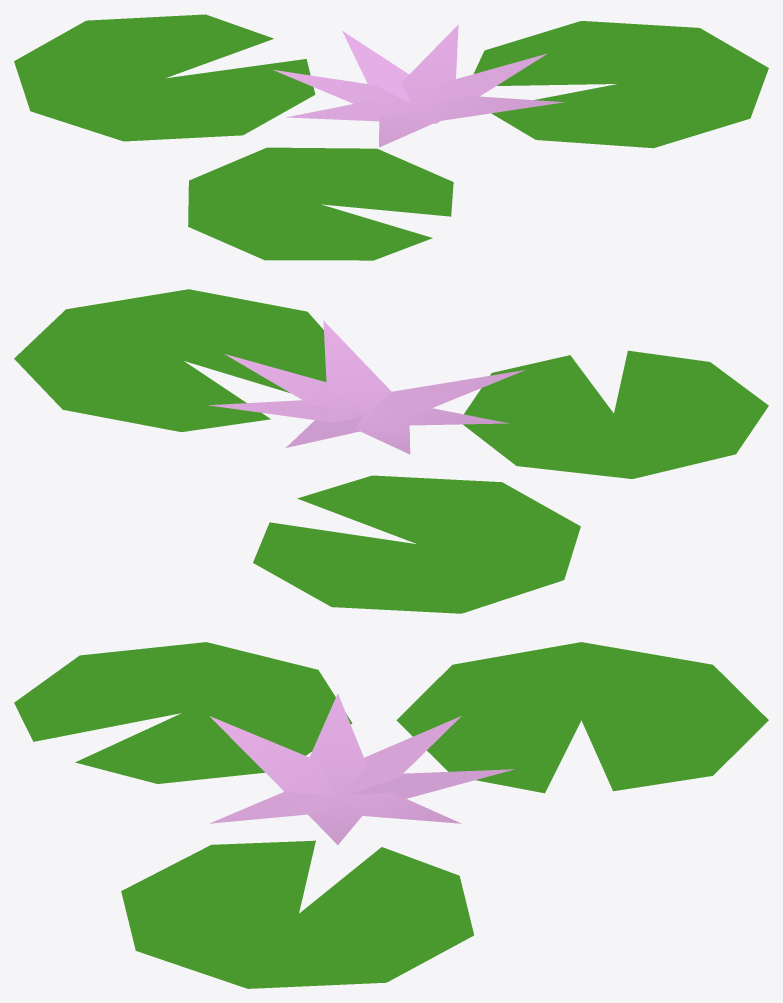
The model's file is lilypads.obj.
3 views of the same model, one above another, from view 1: azimuth 30°, elevation 25°; view 2: azimuth 150°, elevation 25°; view 3: azimuth 270°, elevation 25° (orthographic). The views are drawn at different scales.
Parts seen in each view (by area): view 1: rdmobj00; view 2: rdmobj00; view 3: rdmobj00.
Boxes of the visible parts, x1,y1,x2,y2 form: rdmobj00: (14,14,768,260); rdmobj00: (14,289,768,613); rdmobj00: (14,642,768,988).
Bounding box in the file's own units: 33.7 × 1.7 × 31.
1 material, 1 textured.
